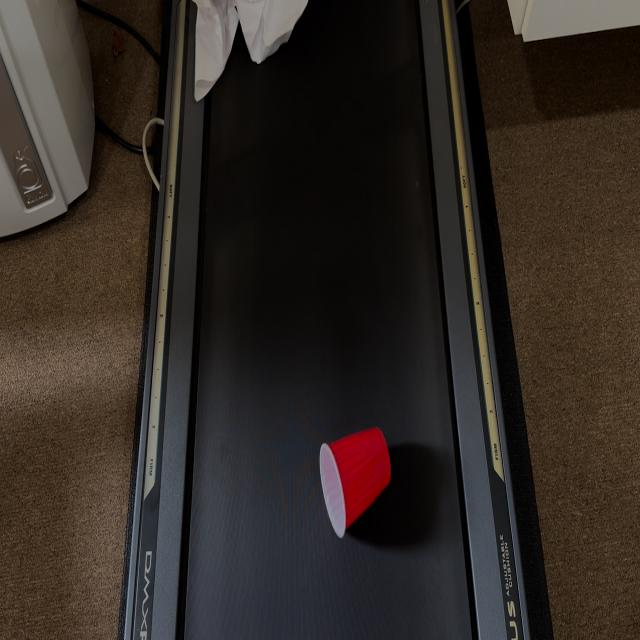Recycle: (194, 0, 308, 108), (319, 437, 404, 541)
